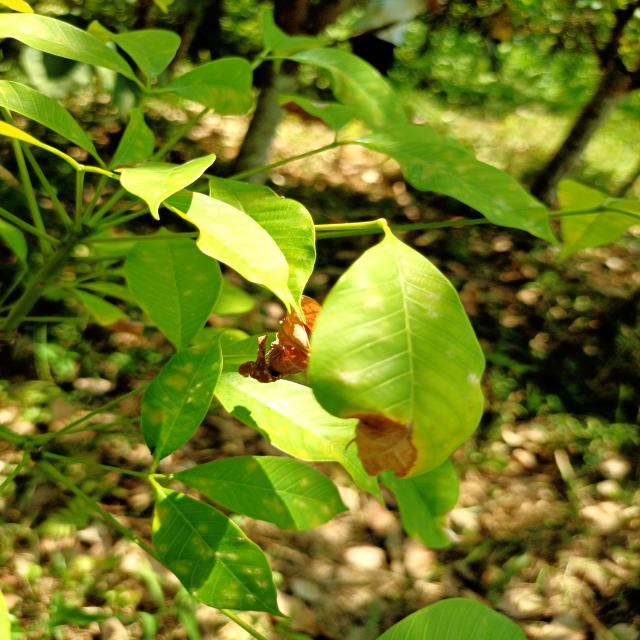Leaf-Blight: (342, 413, 418, 478)
